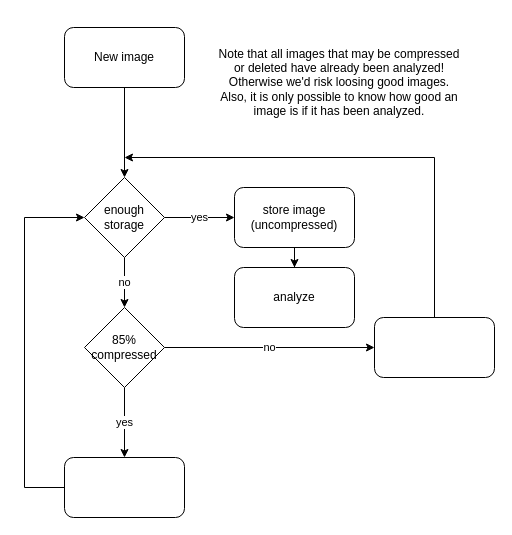
The diagram is 512 pixels wide and 535 high, and some of its shapes have lost their labels. Here are the shapes that lost their labels. From the top down, the box of each, then its label:
(374, 316, 494, 378): compress worst uncompressed image
(64, 456, 184, 518): delete worst image
